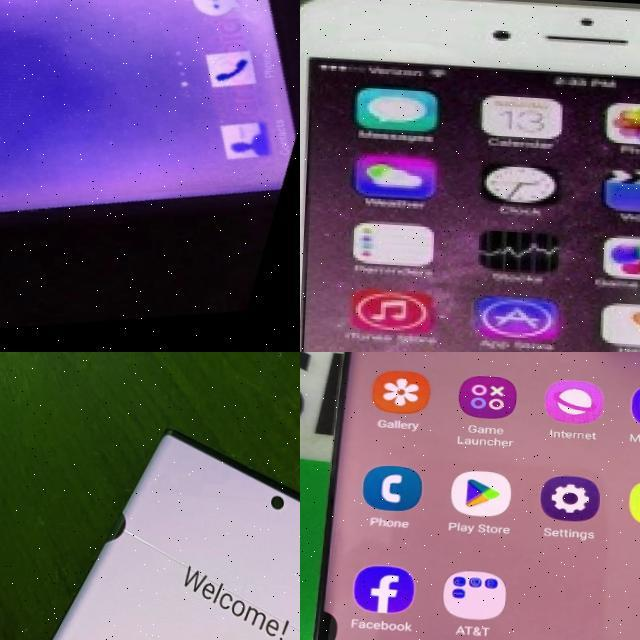dead pixel: (87, 467, 154, 569), (300, 602, 371, 640)
